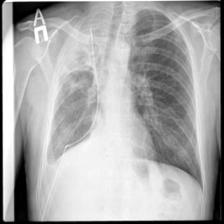tuberculosis: (36, 7, 208, 203)
